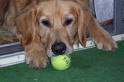tennis ball: (50, 51, 71, 70)
